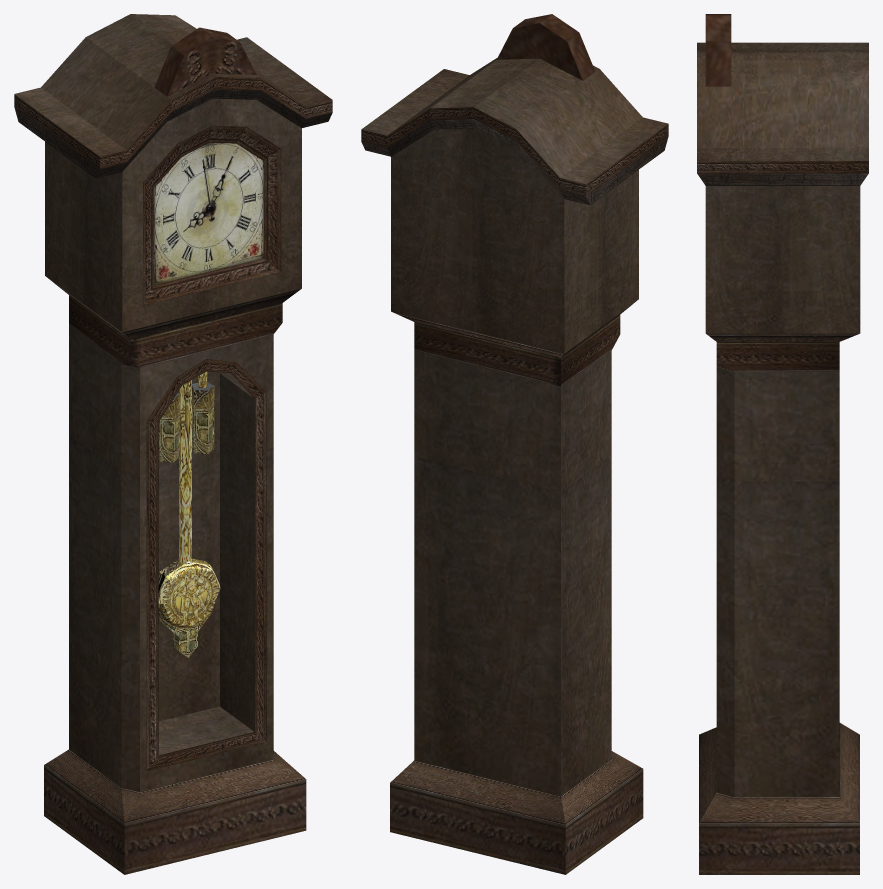
The model's file is GS_VOB_CLOCK_POOR_01_KOZA.glb.
3 renders of one model, left to right at view 1: azimuth 30°, elevation 25°; view 2: azimuth 150°, elevation 25°; view 3: azimuth 270°, elevation 25°, orthographic. The views are drawn at different scales.
Visible parts, largest first — view 1: GS_VOB_CLOCK_POOR_01_KOZA; view 2: GS_VOB_CLOCK_POOR_01_KOZA; view 3: GS_VOB_CLOCK_POOR_01_KOZA.
Boxes of the visible parts, left/top/right/bottom form: GS_VOB_CLOCK_POOR_01_KOZA: left=14, top=14, right=332, bottom=874; GS_VOB_CLOCK_POOR_01_KOZA: left=361, top=14, right=668, bottom=874; GS_VOB_CLOCK_POOR_01_KOZA: left=697, top=14, right=868, bottom=874.
Size of the model in its own units: 0.7367 by 2.46 by 0.4704.
Materials: 4 (4 with a texture image).
